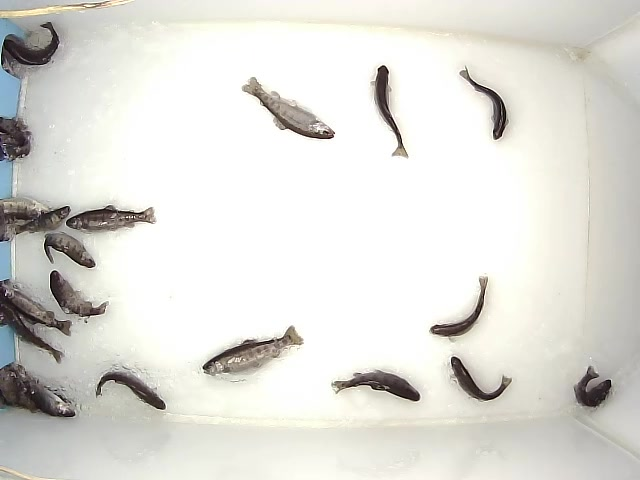fish: (240, 75, 336, 141), (201, 324, 305, 377), (428, 272, 489, 342), (1, 303, 66, 364), (458, 65, 510, 141), (369, 65, 409, 159), (1, 286, 73, 336), (330, 368, 421, 403), (94, 368, 167, 411), (448, 355, 513, 403), (49, 269, 109, 317), (66, 204, 157, 235), (3, 21, 61, 66), (43, 231, 96, 269), (11, 205, 72, 236), (572, 364, 613, 408), (89, 245, 171, 260)
